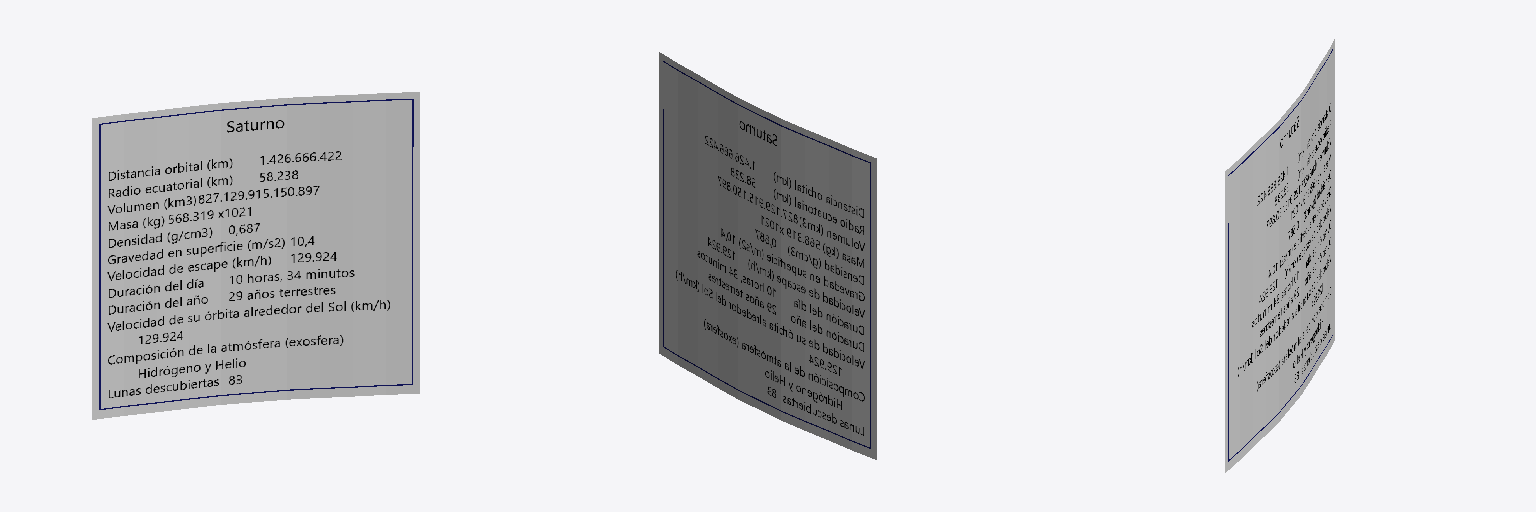
3 views of the same model, side by side, from view 1: azimuth 30°, elevation 25°; view 2: azimuth 150°, elevation 25°; view 3: azimuth 270°, elevation 25° (orthographic).
Visible parts, largest first — view 1: pPlane1; view 2: pPlane1; view 3: pPlane1.
Part boxes in pixels (x1,y1,x2,y2): pPlane1: (92,92,419,419); pPlane1: (659,52,876,459); pPlane1: (1225,39,1334,472).
Bounding box in the file's own units: 2.83 × 3 × 0.9887.
Materials: 1 (1 with a texture image).